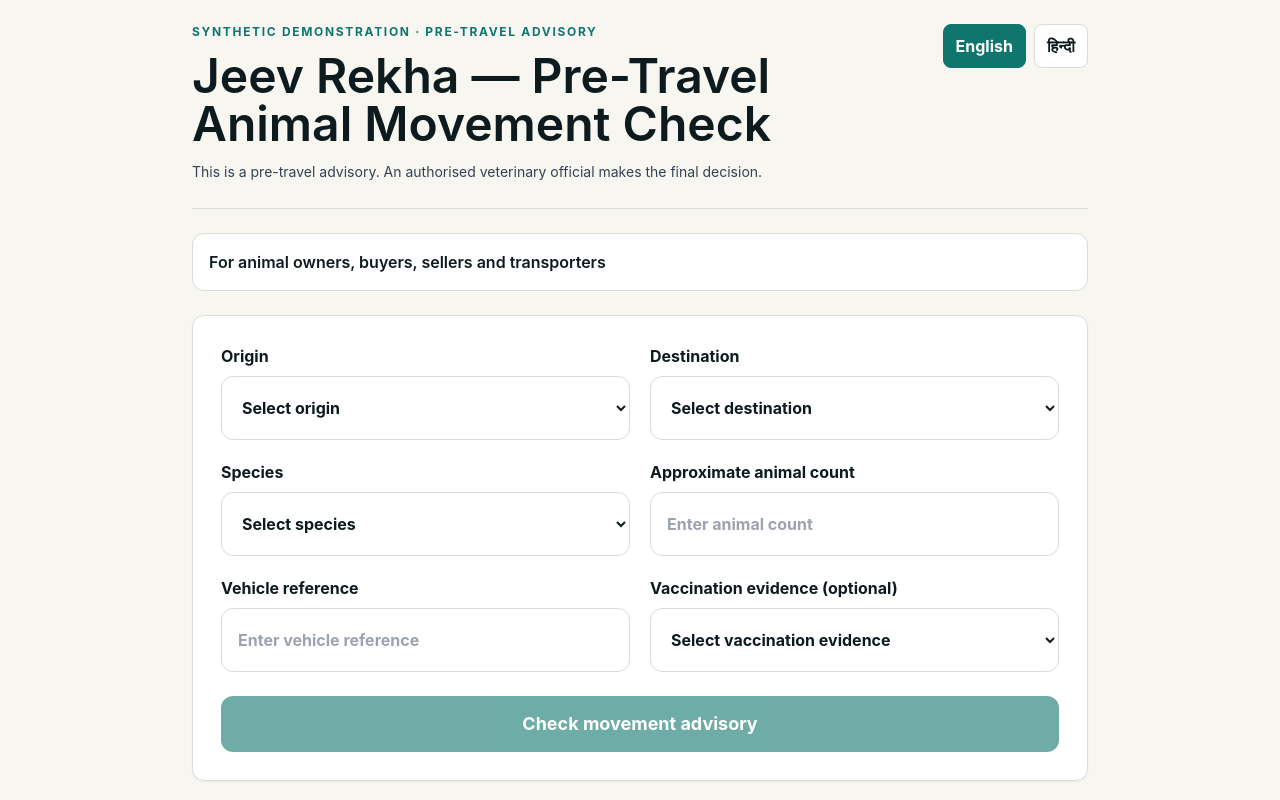
PublicMovementCheckPage language toggle › switches the rendered title to Hindi
Check: the heading "Jeev Rekha — Pre-Travel Animal Movement Check" is shown, box [192, 46, 771, 153]
Click the button "हिन्दी".
click(1061, 46)  # box [1034, 24, 1088, 68]
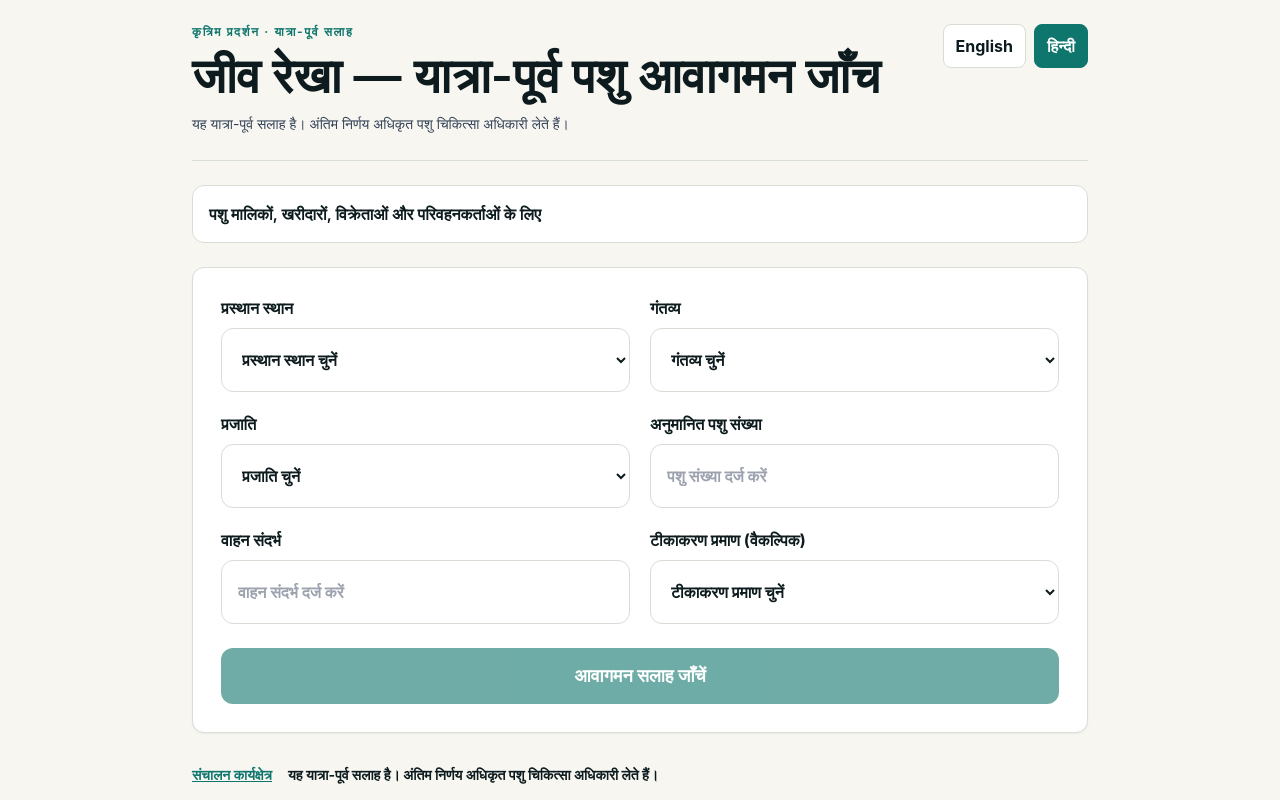
Check: the heading "जीव रेखा — यात्रा-पूर्व पशु आवागमन जाँच" is shown, box [192, 52, 880, 100]
